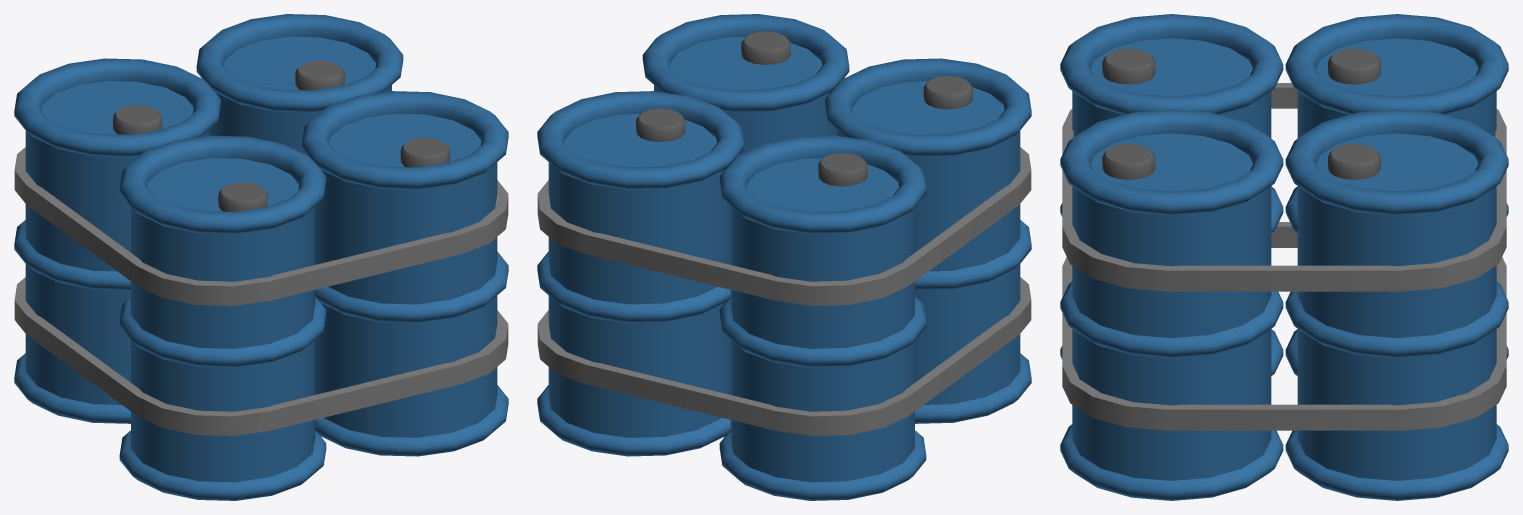
File: SRA_Oil_Barrel_Stack_Red_Blue.glb
3 views of the same model, side by side, from view 1: azimuth 30°, elevation 25°; view 2: azimuth 150°, elevation 25°; view 3: azimuth 270°, elevation 25° (orthographic). The views are drawn at different scales.
Visible parts, largest first — view 1: Oil_Barrel_Stack_Red_Blue; view 2: Oil_Barrel_Stack_Red_Blue; view 3: Oil_Barrel_Stack_Red_Blue.
Part boxes in pixels (x1,y1,x2,y2): Oil_Barrel_Stack_Red_Blue: [14, 14, 508, 500]; Oil_Barrel_Stack_Red_Blue: [537, 14, 1031, 500]; Oil_Barrel_Stack_Red_Blue: [1060, 14, 1508, 500].
Size of the model in its own units: 0.8038 by 0.5999 by 0.8043.
1 material, 1 textured.
